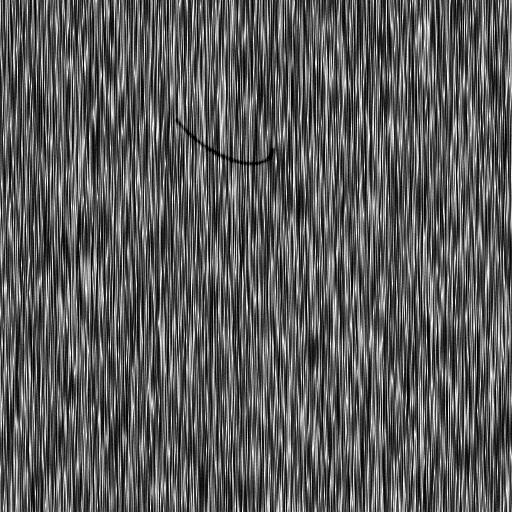DefectTypeC: (170, 116, 277, 166)
